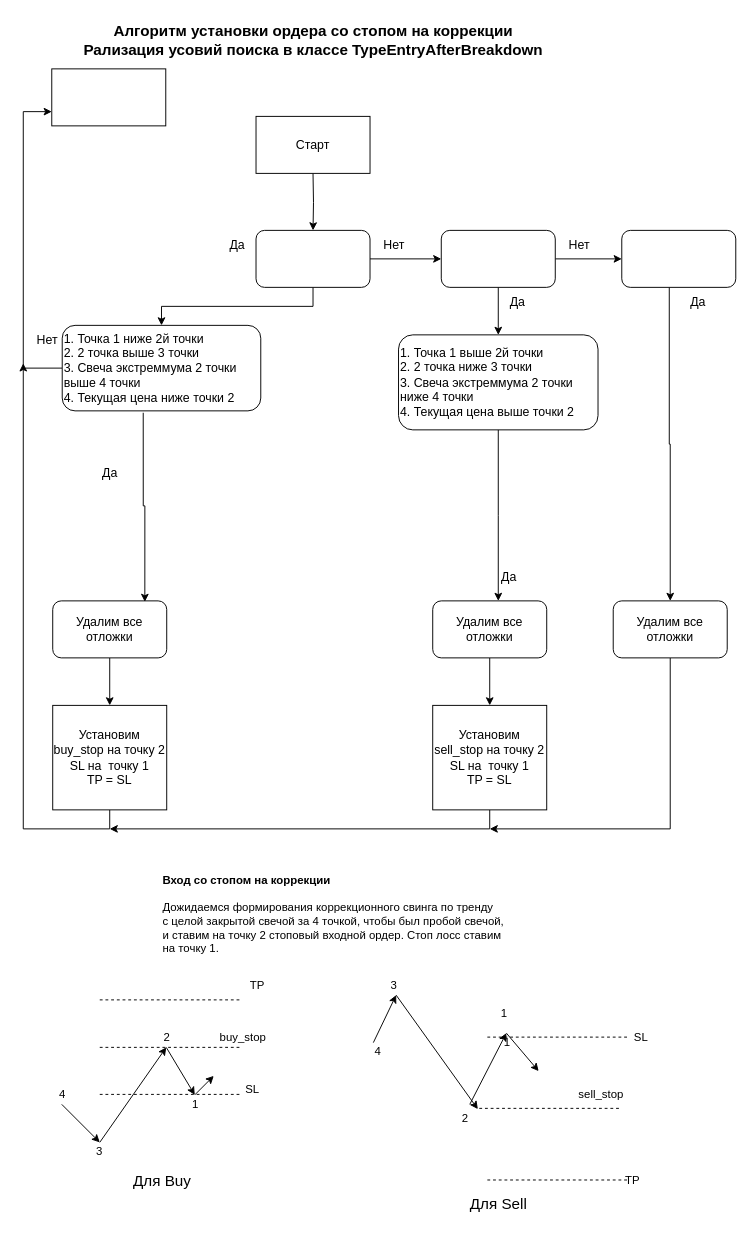
This 752x1234 diagram has some shape labels left out. The box of each missing label's shape, as (x1, y1, x2, y2) in pixels:
Выход: (51, 68, 166, 126)
Тренд вверх: (255, 229, 370, 287)
Тренд вниз: (440, 229, 555, 287)
Флэт: (621, 229, 736, 287)
